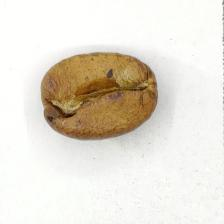NG: (47, 67, 150, 125)
